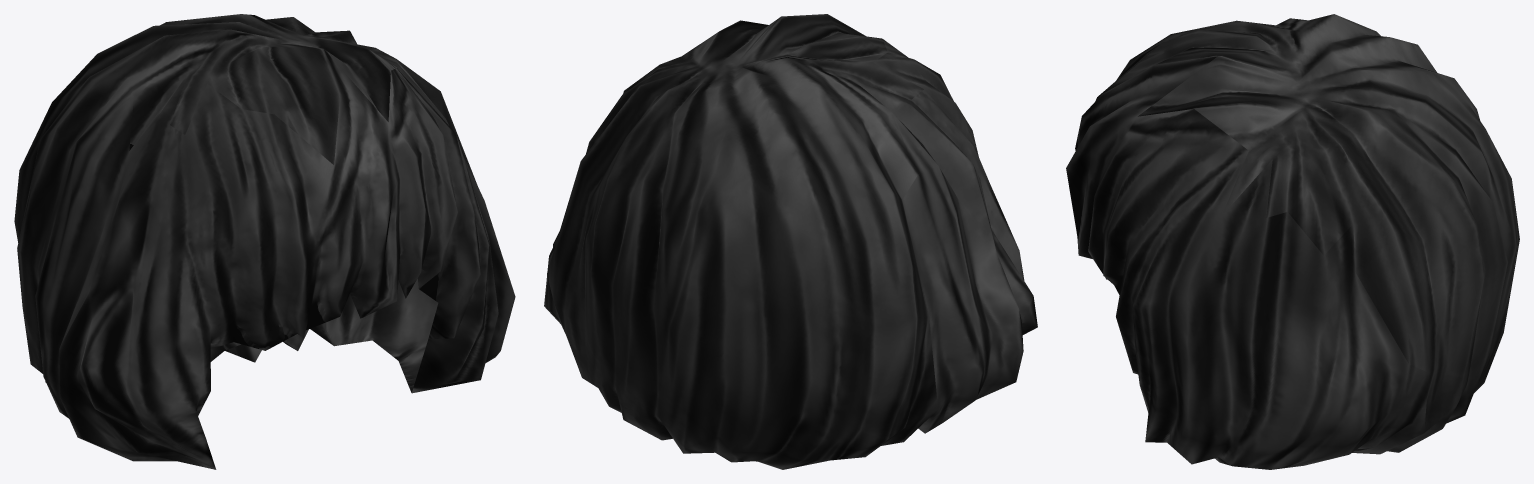
The model's file is AF_M_hair_G_02.fbx.
3 views of the same model, side by side, from view 1: azimuth 30°, elevation 25°; view 2: azimuth 150°, elevation 25°; view 3: azimuth 270°, elevation 25° (orthographic). The views are drawn at different scales.
Visible parts, largest first — view 1: AF_M_hair_G_02; view 2: AF_M_hair_G_02; view 3: AF_M_hair_G_02.
Boxes of the visible parts, x1,y1,x2,y2 form: AF_M_hair_G_02: [14, 14, 515, 469]; AF_M_hair_G_02: [544, 14, 1037, 469]; AF_M_hair_G_02: [1066, 14, 1519, 469].
Size of the model in its own units: 910 by 754 by 805.
